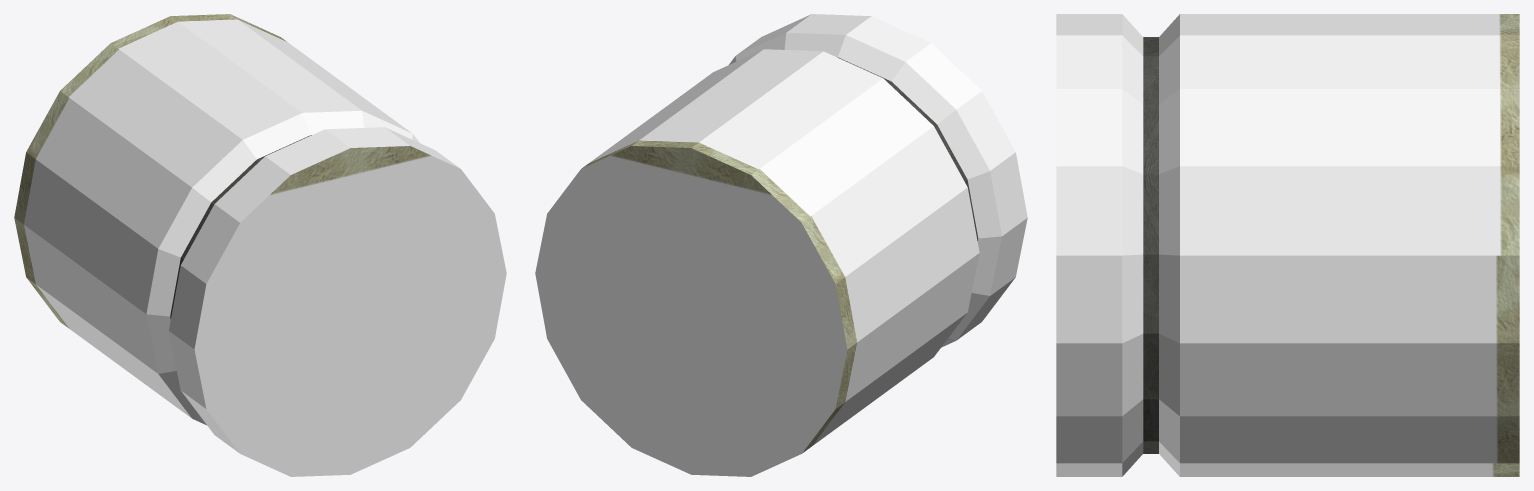
3 views of the same model, side by side, from view 1: azimuth 30°, elevation 25°; view 2: azimuth 150°, elevation 25°; view 3: azimuth 270°, elevation 25° (orthographic). The views are drawn at different scales.
Visible parts, largest first — view 1: Cube_Cube_None_QuartoPieces.png; view 2: Cube_Cube_None_QuartoPieces.png; view 3: Cube_Cube_None_QuartoPieces.png.
Boxes of the visible parts, x1=… form: Cube_Cube_None_QuartoPieces.png: x1=14, y1=14, x2=506, y2=476; Cube_Cube_None_QuartoPieces.png: x1=535, y1=14, x2=1027, y2=476; Cube_Cube_None_QuartoPieces.png: x1=1056, y1=14, x2=1519, y2=476.
Size of the model in its own units: 2 by 2 by 2.
